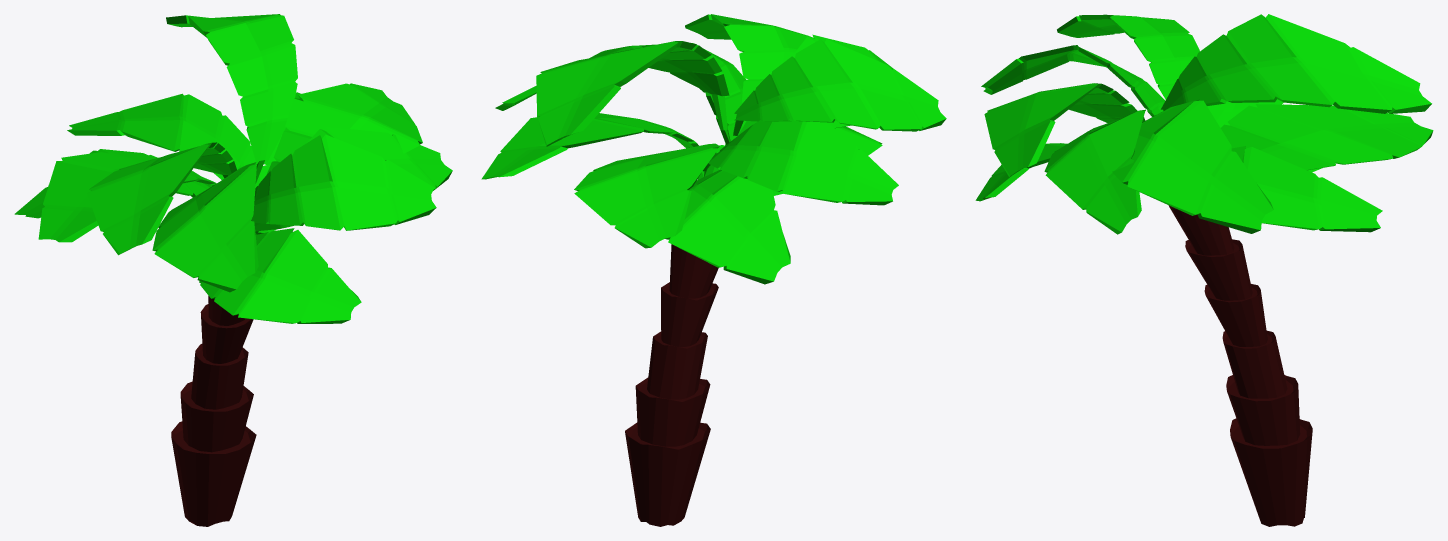
The model's file is BananaTree2.fbx.
3 views of the same model, side by side, from view 1: azimuth 30°, elevation 25°; view 2: azimuth 150°, elevation 25°; view 3: azimuth 270°, elevation 25° (orthographic). The views are drawn at different scales.
Parts seen in each view (by area): view 1: BananaTree.001; view 2: BananaTree.001; view 3: BananaTree.001.
Part boxes in pixels (x1,y1,x2,y2): BananaTree.001: [14, 14, 452, 526]; BananaTree.001: [481, 14, 946, 526]; BananaTree.001: [975, 14, 1433, 526].
Bounding box in the file's own units: 589 × 714 × 594.
